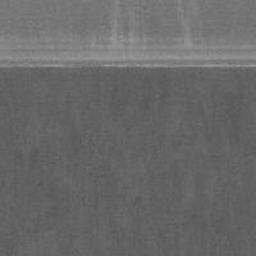Welding line: (0, 56, 256, 69)
